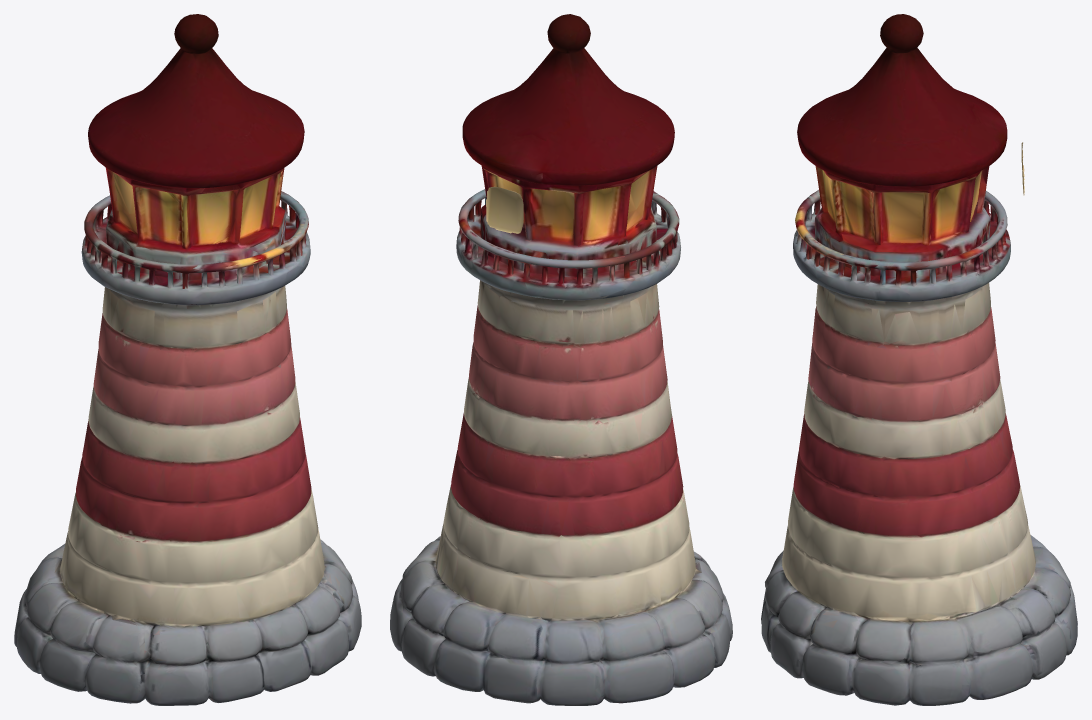
File: mercu.glb
3 views of the same model, side by side, from view 1: azimuth 30°, elevation 25°; view 2: azimuth 150°, elevation 25°; view 3: azimuth 270°, elevation 25° (orthographic).
Parts seen in each view (by area): view 1: node_0; view 2: node_0; view 3: node_0.
Boxes of the visible parts, x1,y1,x2,y2 form: node_0: (14, 14, 361, 705); node_0: (390, 14, 732, 705); node_0: (761, 14, 1077, 705).
Size of the model in its own units: 0.2 by 0.3872 by 0.1797.
Materials: 1 (1 with a texture image).
